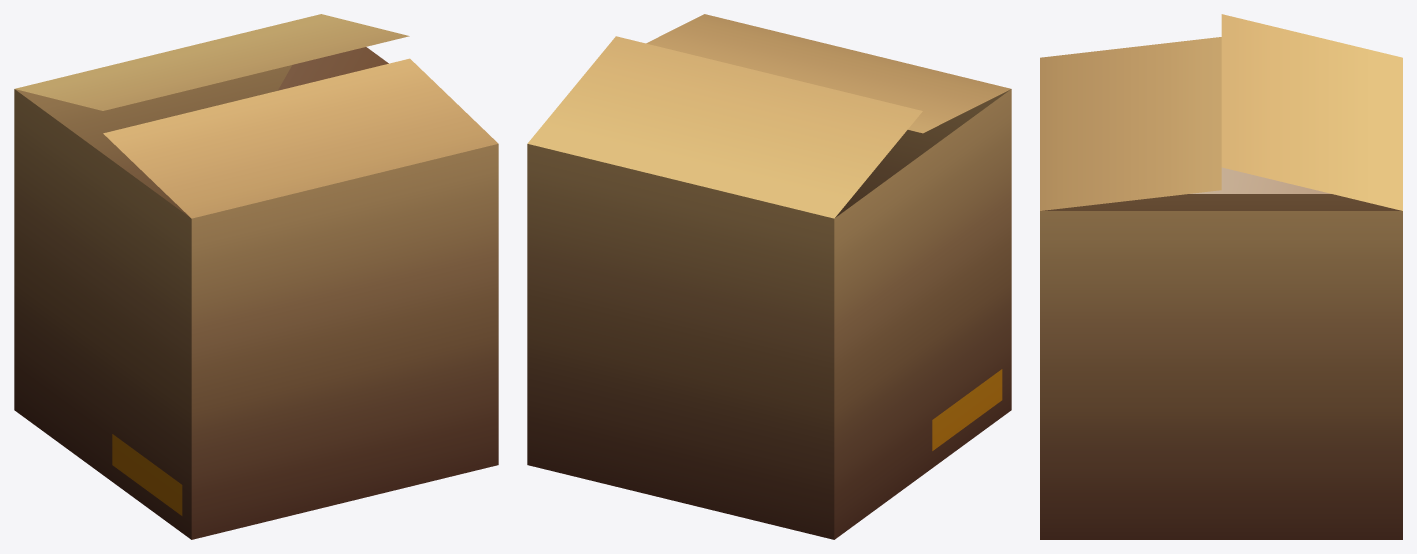
3 views of the same model, side by side, from view 1: azimuth 30°, elevation 25°; view 2: azimuth 150°, elevation 25°; view 3: azimuth 270°, elevation 25° (orthographic). The views are drawn at different scales.
Visible parts, largest first — view 1: SM_Box; view 2: SM_Box; view 3: SM_Box.
Part boxes in pixels (<box>): SM_Box: <box>14,14,498,539</box>; SM_Box: <box>527,14,1011,539</box>; SM_Box: <box>1040,14,1402,539</box>.
Bounding box in the file's own units: 35.46 × 40.17 × 35.46.
